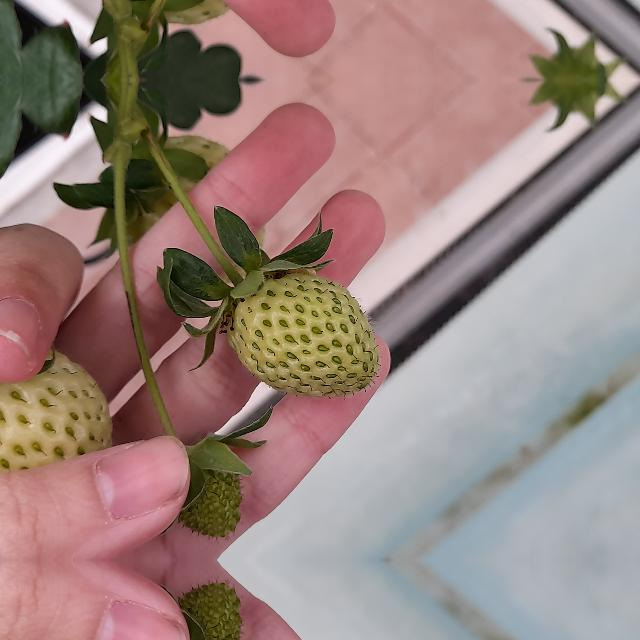Health_25: (226, 272, 380, 398), (176, 454, 247, 540), (175, 579, 246, 640)
